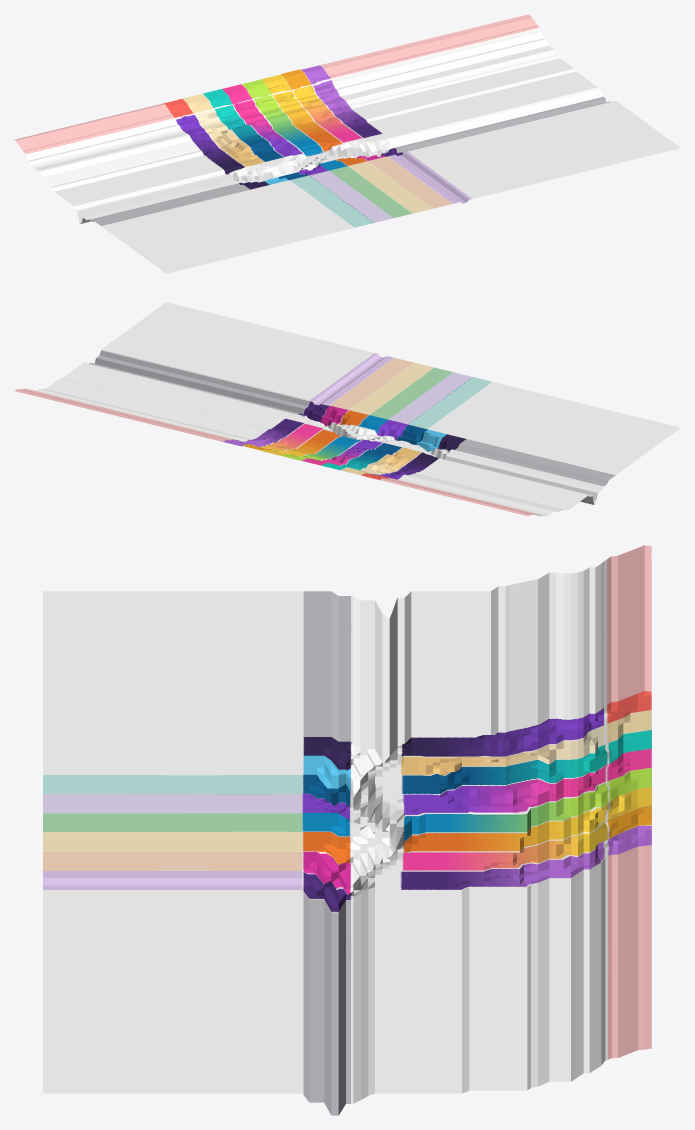
Rendered from SM_Terrain.fbx.
3 views of the same model, one above another, from view 1: azimuth 30°, elevation 25°; view 2: azimuth 150°, elevation 25°; view 3: azimuth 270°, elevation 25° (orthographic). The views are drawn at different scales.
Visible parts, largest first — view 1: Terrain; view 2: Terrain; view 3: Terrain.
Part boxes in pixels (<box>): Terrain: <box>14,14,680,273</box>; Terrain: <box>14,302,680,516</box>; Terrain: <box>43,545,651,1115</box>.
Bounding box in the file's own units: 16780 × 32761 × 2268.
